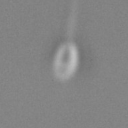normal: (61, 1, 86, 39)
